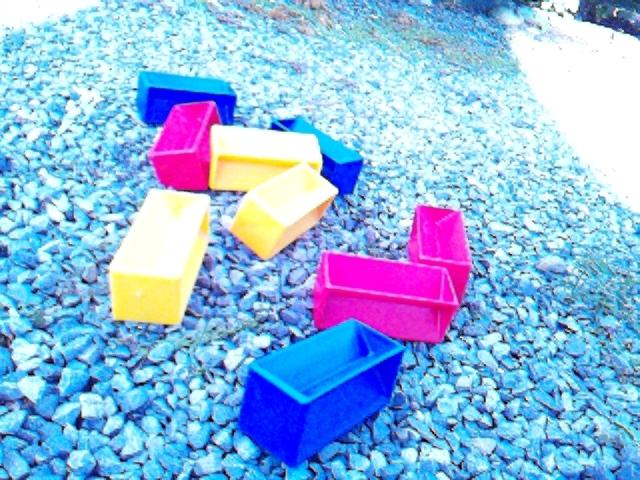blue: (237, 318, 407, 468), (270, 114, 364, 196), (136, 70, 238, 127)
red: (313, 249, 460, 344), (148, 100, 222, 191), (407, 204, 473, 306)
yellow: (108, 188, 211, 326), (228, 162, 340, 261), (208, 124, 323, 192)
